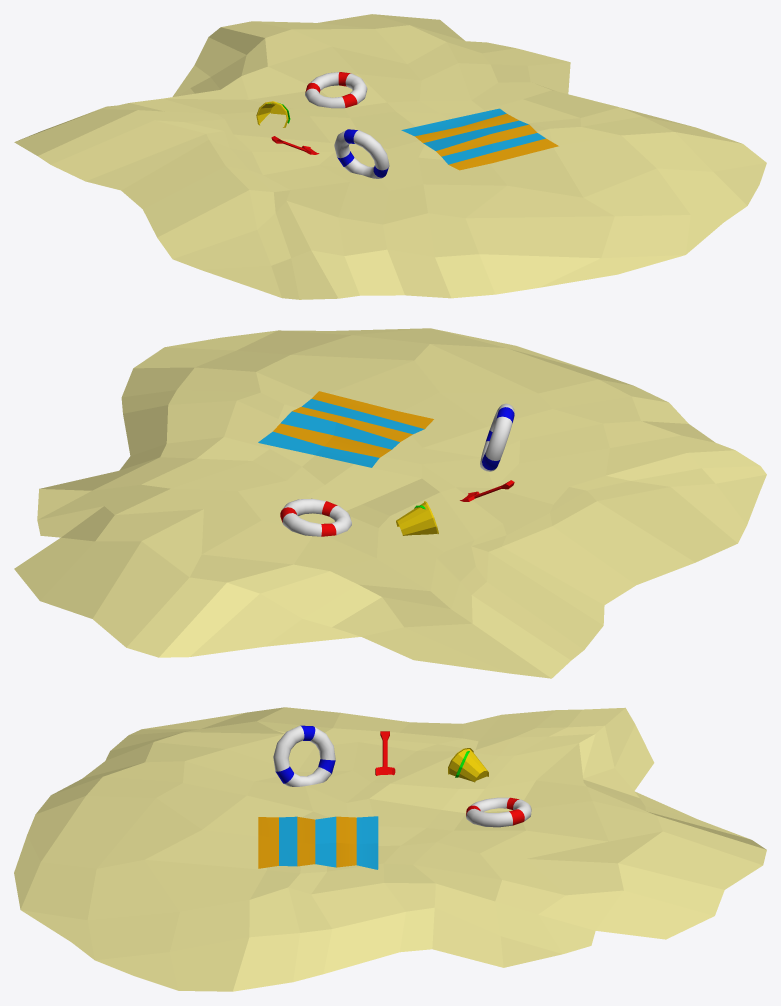
Rendered from BEACH.fbx.
3 views of the same model, one above another, from view 1: azimuth 30°, elevation 25°; view 2: azimuth 150°, elevation 25°; view 3: azimuth 270°, elevation 25° (orthographic). The views are drawn at different scales.
Parts seen in each view (by area): view 1: polySurface3, polySurface4, pTorus2, pTorus3; view 2: polySurface3, polySurface4, pTorus3, pTorus2, polySurface5; view 3: polySurface3, polySurface4, pTorus2, pTorus3, polySurface5.
Boxes of the visible parts, left/top/right/bottom form: polySurface3: left=14, top=14, right=766, bottom=299; polySurface4: left=401, top=108, right=558, bottom=170; pTorus2: left=334, top=129, right=389, bottom=178; pTorus3: left=305, top=72, right=367, bottom=108; polySurface3: left=14, top=328, right=766, bottom=678; polySurface4: left=258, top=391, right=433, bottom=467; pTorus3: left=280, top=498, right=351, bottom=536; pTorus2: left=480, top=403, right=514, bottom=471; polySurface5: left=396, top=501, right=438, bottom=535; polySurface3: left=14, top=707, right=766, bottom=991; polySurface4: left=258, top=816, right=378, bottom=869; pTorus2: left=273, top=725, right=335, bottom=786; pTorus3: left=466, top=797, right=531, bottom=827; polySurface5: left=448, top=748, right=488, bottom=782.
Size of the model in its own units: 3116 by 415 by 3486.
